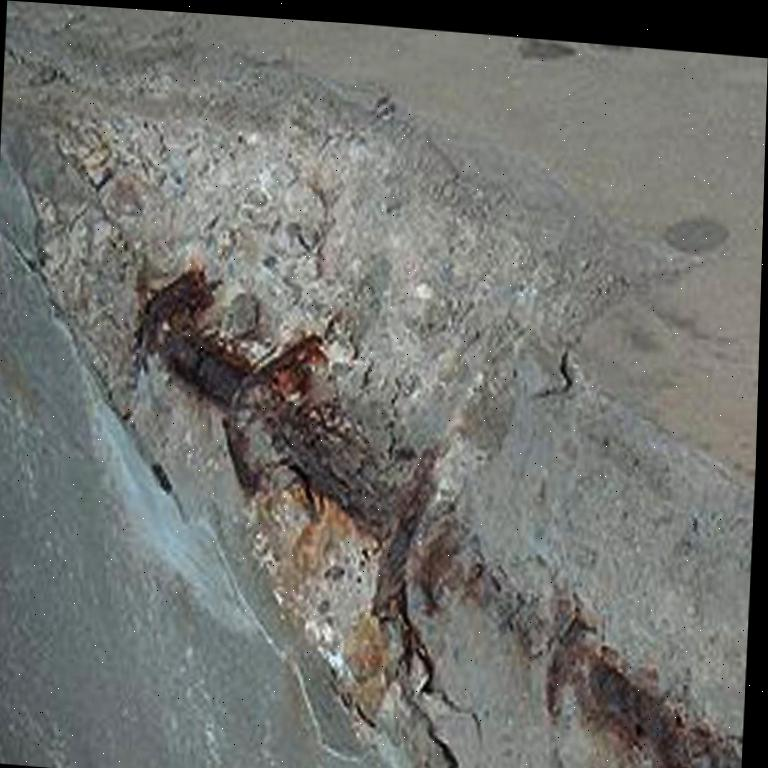exposed_rebar: (138, 268, 405, 537), (548, 616, 742, 768)
spalling: (13, 10, 619, 768)
